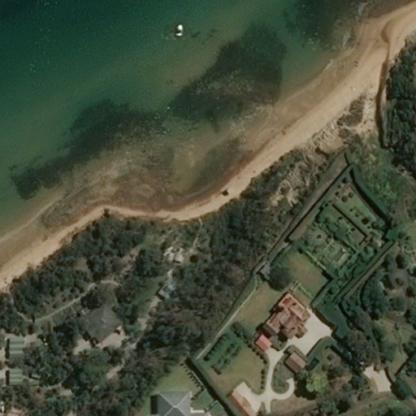ship: (167, 18, 188, 40)
